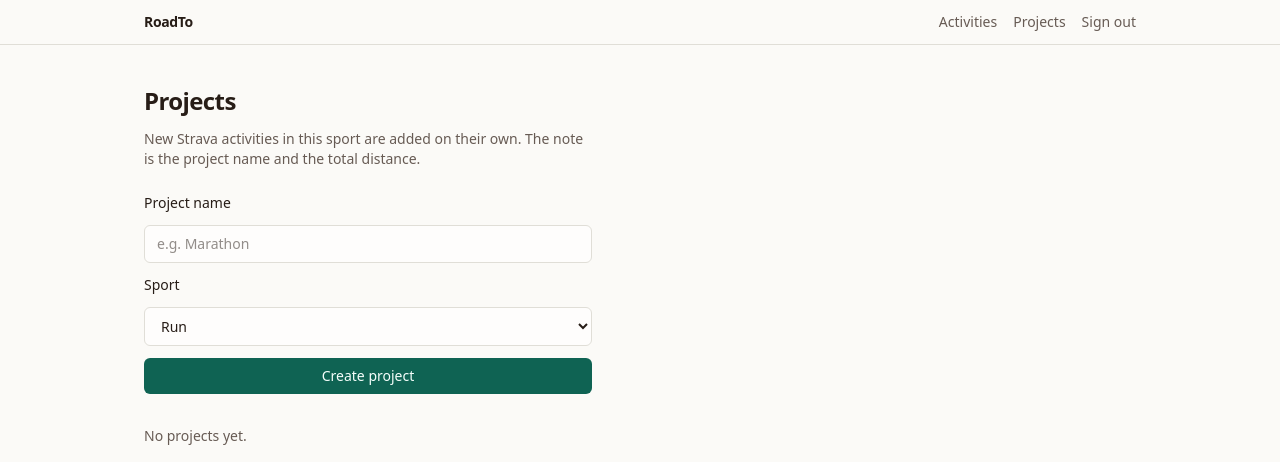
Test: brand header › becomes RoadTo {projectName} after creating a project
This screenshot has width=1280, height=462.
Type "Marathon" into the field labelled "Project name" at point(368, 244), box [144,225,592,263]
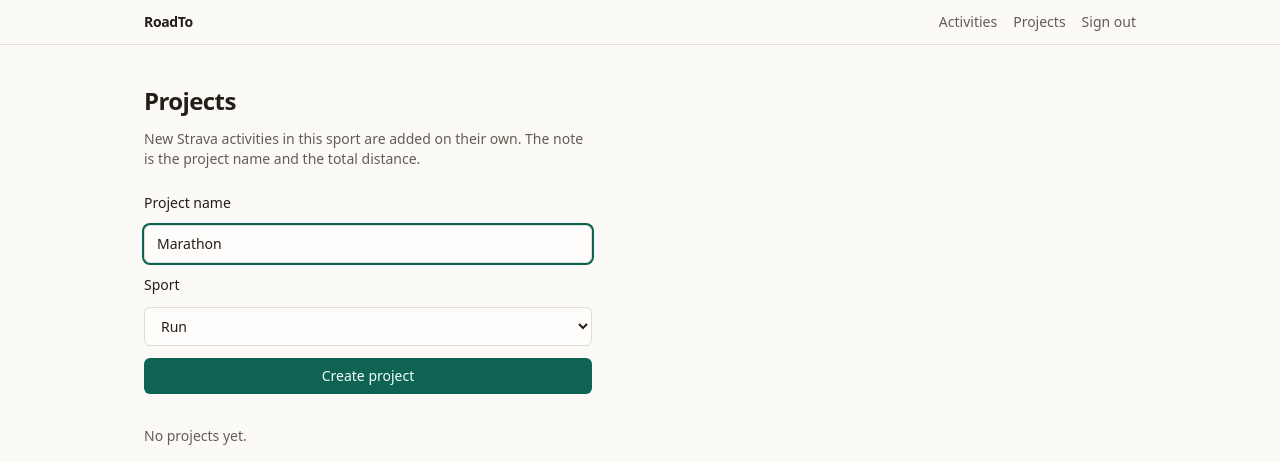
Click the button "Create project" at point(368, 376), box [144,358,592,394]
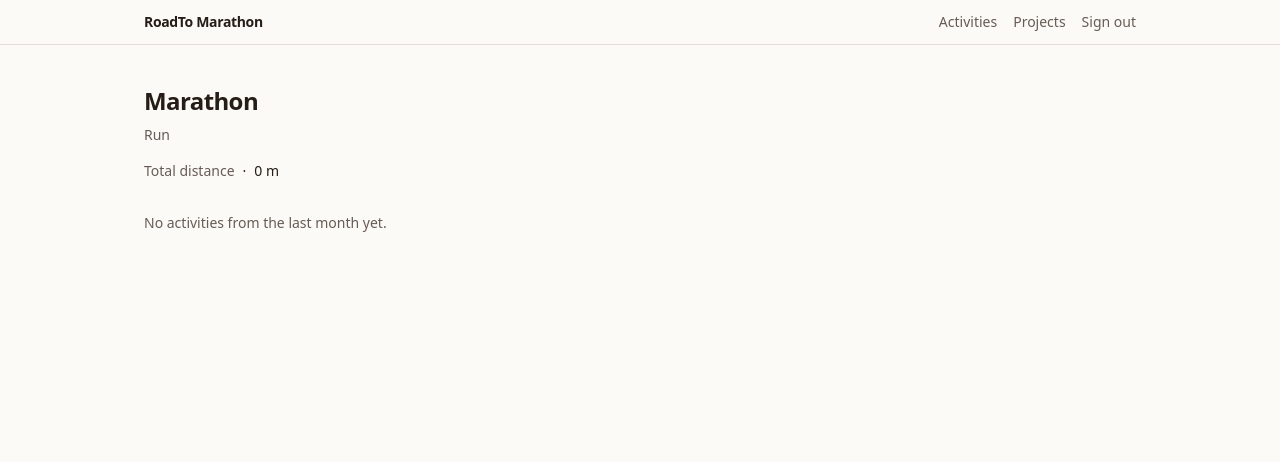
Expected: the link "RoadTo Marathon" is shown, [144,12,263,32]
Expected: the heading "Marathon" is shown, [144,84,258,117]
